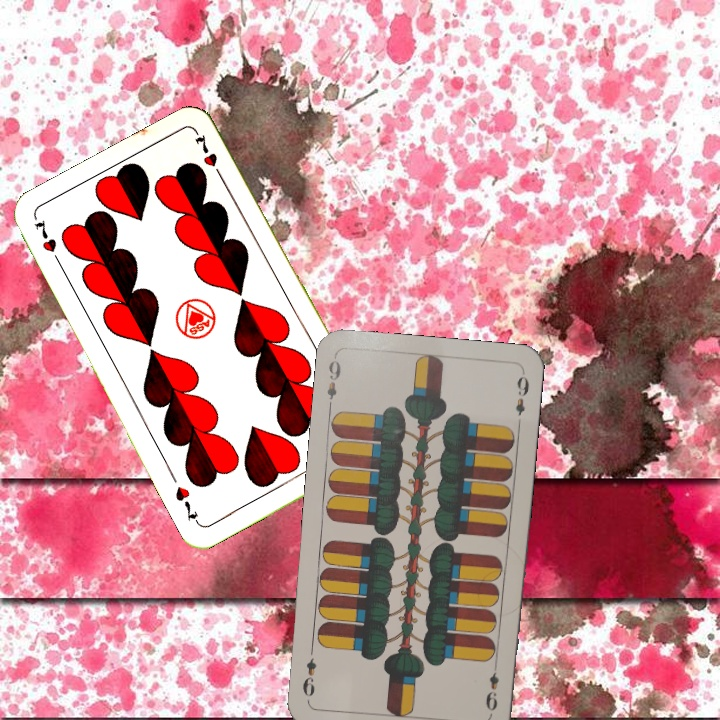E9: (322, 353, 344, 412), (481, 658, 502, 717)
H7: (30, 215, 65, 269)
